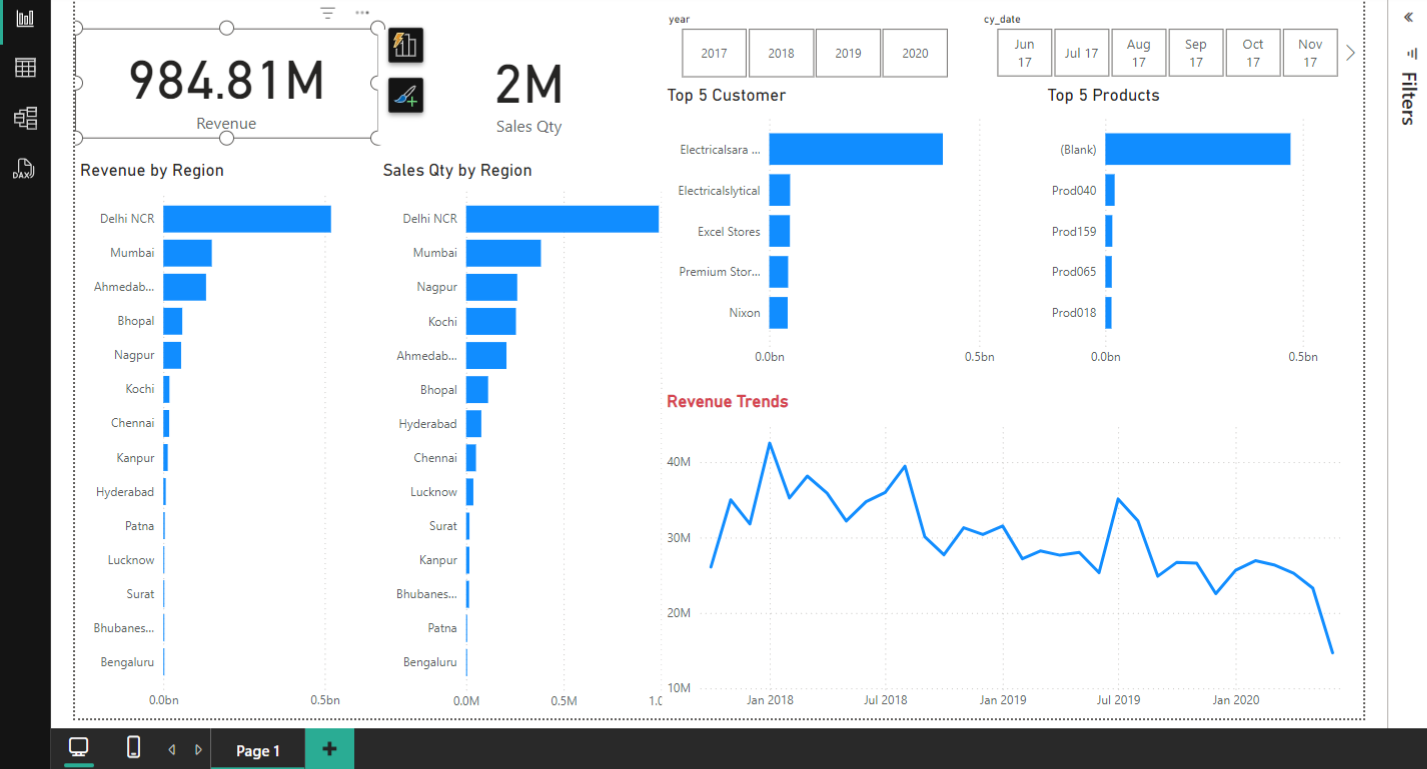

What the dashboard file says about the page in this screenshot:
{"tool":"powerbi","page":{"name":"Page 1","canvas":[1280,720],"ordinal":0},"visuals":[{"type":"card","fields":{"Values":["BaseMeasure.Revenue"]},"box":[0,34.3,300.5,109.8],"z":0},{"type":"card","fields":{"Values":["BaseMeasure.Sales Qty"]},"box":[310.1,49.4,300.5,115.3],"z":1000},{"type":"barChart","title":"Revenue by Region","fields":{"Y":["BaseMeasure.Revenue"],"Category":["sales markets.markets_name"]},"box":[0,164.7,300.5,555.7],"z":2000},{"type":"barChart","title":"Sales Qty by Region","fields":{"Category":["sales markets.markets_name"],"Y":["BaseMeasure.Sales Qty"]},"box":[300.8,163.9,300.8,556.4],"z":3000},{"type":"slicer","fields":{"Values":["sales date.year"]},"box":[577.4,12.5,314.4,76.5],"z":4000},{"type":"slicer","fields":{"Values":["sales date.cy_date"]},"box":[891.2,12.6,388.8,75.8],"z":4001},{"type":"barChart","title":"Top 5 Customer","fields":{"Y":["BaseMeasure.Revenue"],"Category":["sales customers.custmer_name"]},"box":[583.9,89.8,377.5,289.1],"z":4002},{"type":"barChart","title":"Top 5 Products","fields":{"Y":["BaseMeasure.Revenue"],"Category":["sales products.product_code"]},"box":[961.4,89.8,318.6,289.1],"z":4003},{"type":"lineChart","title":"Revenue Trends","fields":{"Y":["BaseMeasure.Revenue"],"Category":["sales date.cy_date.Variation.Date Hierarchy.Year","sales date.cy_date.Variation.Date Hierarchy.Quarter","sales date.cy_date.Variation.Date Hierarchy.Month","sales date.cy_date.Variation.Date Hierarchy.Day"]},"box":[583.9,394.4,696.1,325.6],"z":4004}]}

Visuals, with their boxes on the page's 1280x720 design canvas (x1, y1, x2, y2). These are canvas units, not pixel positions in the 1427x769 screenshot, which may show the page scaled, cropped or inside an application window:
card - BaseMeasure.Revenue: {"left": 0, "top": 34, "right": 300, "bottom": 144}
card - BaseMeasure.Sales Qty: {"left": 310, "top": 49, "right": 611, "bottom": 165}
"Revenue by Region" barChart: {"left": 0, "top": 165, "right": 300, "bottom": 720}
"Sales Qty by Region" barChart: {"left": 301, "top": 164, "right": 602, "bottom": 720}
slicer - sales date.year: {"left": 577, "top": 12, "right": 892, "bottom": 89}
slicer - sales date.cy_date: {"left": 891, "top": 13, "right": 1280, "bottom": 88}
"Top 5 Customer" barChart: {"left": 584, "top": 90, "right": 961, "bottom": 379}
"Top 5 Products" barChart: {"left": 961, "top": 90, "right": 1280, "bottom": 379}
"Revenue Trends" lineChart: {"left": 584, "top": 394, "right": 1280, "bottom": 720}
